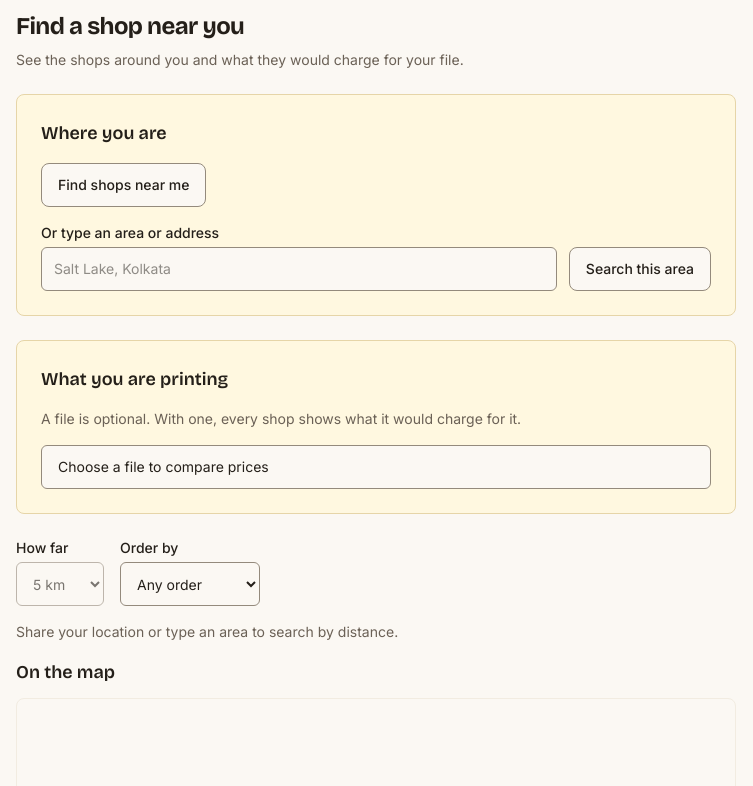
it: the shop search › asks the browser for a location and searches around it
Click the button "Find shops near me".
click(124, 185)  # box [41, 163, 206, 207]
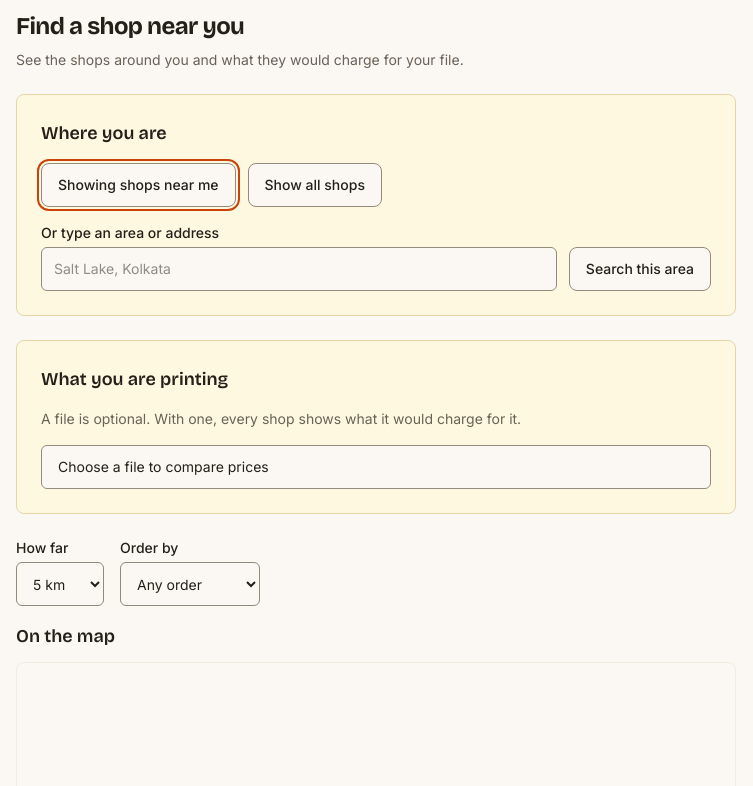
Check: the button "Showing shops near me" is shown, box [41, 163, 236, 207]
